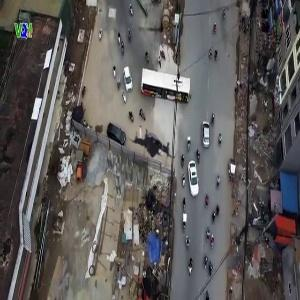drone: (125, 118, 181, 174)
